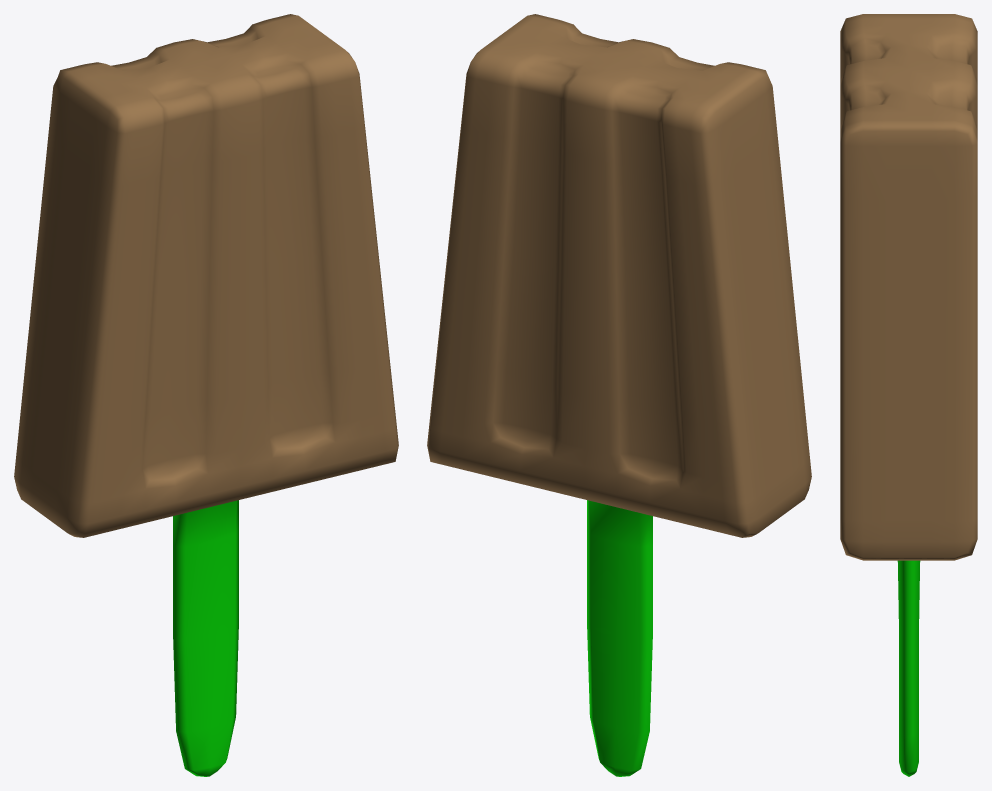
Rendered from PopsicleHP.fbx.
The picture shows the model from 3 angles, left to right: view 1: azimuth 30°, elevation 25°; view 2: azimuth 150°, elevation 25°; view 3: azimuth 270°, elevation 25°; orthographic projection.
Visible parts, largest first — view 1: pCube1_id; view 2: pCube1_id; view 3: pCube1_id.
Part boxes in pixels (x1=…): pCube1_id: x1=14, y1=14, x2=398, y2=776; pCube1_id: x1=427, y1=14, x2=811, y2=776; pCube1_id: x1=840, y1=14, x2=977, y2=776.
Bounding box in the file's own units: 4.04 × 8.5 × 1.5.
